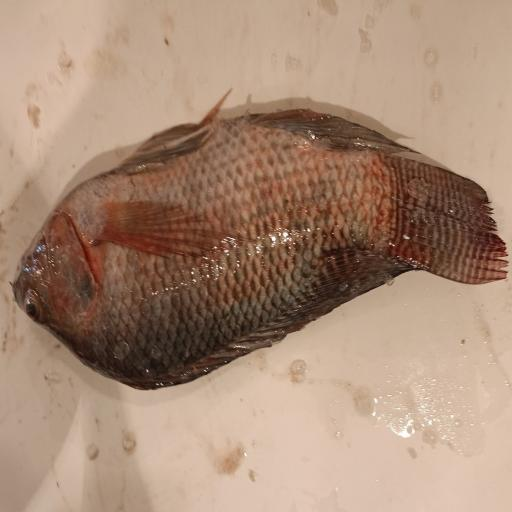Tilapia: (10, 88, 510, 392)
